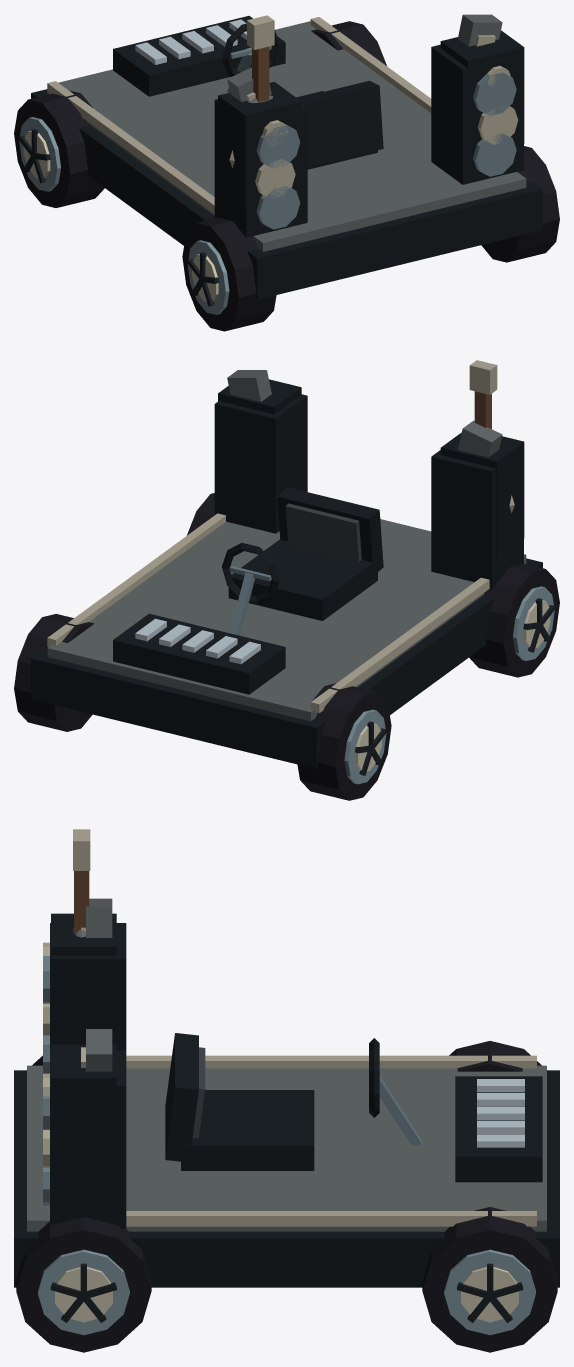
File: kart.glb
3 views of the same model, one above another, from view 1: azimuth 30°, elevation 25°; view 2: azimuth 150°, elevation 25°; view 3: azimuth 270°, elevation 25° (orthographic). The views are drawn at different scales.
Visible parts, largest first — view 1: identity-stage-stage-platform-and-pa-towers, identity-stage-motif-speakers, wheel-rear-left, wheel-front-left, identity-stage-driver-cockpit, wheel-rear-right, identity-stage-motif-ears, identity-stage-motif-guitar, wheel-front-right; view 2: identity-stage-stage-platform-and-pa-towers, identity-stage-driver-cockpit, wheel-front-left, wheel-rear-left, identity-stage-motif-speakers, wheel-front-right, identity-stage-motif-ears, identity-stage-motif-guitar; view 3: identity-stage-stage-platform-and-pa-towers, identity-stage-driver-cockpit, wheel-front-right, wheel-rear-right, identity-stage-motif-speakers, identity-stage-motif-ears, identity-stage-motif-guitar, wheel-front-left.
Boxes of the visible parts, x1=… form: identity-stage-stage-platform-and-pa-towers: x1=31, y1=16, x2=542, y2=299; identity-stage-motif-speakers: x1=218, y1=30, x2=524, y2=211; wheel-rear-left: x1=182, y1=217, x2=276, y2=331; wheel-front-left: x1=14, y1=90, x2=104, y2=207; identity-stage-driver-cockpit: x1=222, y1=23, x2=383, y2=169; wheel-rear-right: x1=481, y1=146, x2=559, y2=262; identity-stage-motif-ears: x1=227, y1=14, x2=502, y2=101; identity-stage-motif-guitar: x1=229, y1=15, x2=274, y2=168; wheel-front-right: x1=311, y1=21, x2=386, y2=65; identity-stage-stage-platform-and-pa-towers: x1=31, y1=394, x2=542, y2=768; identity-stage-driver-cockpit: x1=222, y1=487, x2=383, y2=635; wheel-front-left: x1=297, y1=683, x2=391, y2=800; wheel-rear-left: x1=469, y1=563, x2=559, y2=677; identity-stage-motif-speakers: x1=218, y1=379, x2=524, y2=557; wheel-front-right: x1=14, y1=614, x2=94, y2=731; identity-stage-motif-ears: x1=227, y1=370, x2=502, y2=457; identity-stage-motif-guitar: x1=469, y1=360, x2=514, y2=512; identity-stage-stage-platform-and-pa-towers: x1=14, y1=923, x2=559, y2=1287; identity-stage-driver-cockpit: x1=165, y1=1033, x2=422, y2=1170; wheel-front-right: x1=422, y1=1207, x2=557, y2=1352; wheel-rear-right: x1=16, y1=1217, x2=151, y2=1352; identity-stage-motif-speakers: x1=43, y1=913, x2=116, y2=1194; identity-stage-motif-ears: x1=81, y1=898, x2=112, y2=1071; identity-stage-motif-guitar: x1=73, y1=829, x2=90, y2=937; wheel-front-left: x1=449, y1=1041, x2=541, y2=1071.
Bounding box in the file's own units: 2.16 × 1.8 × 2.5.
